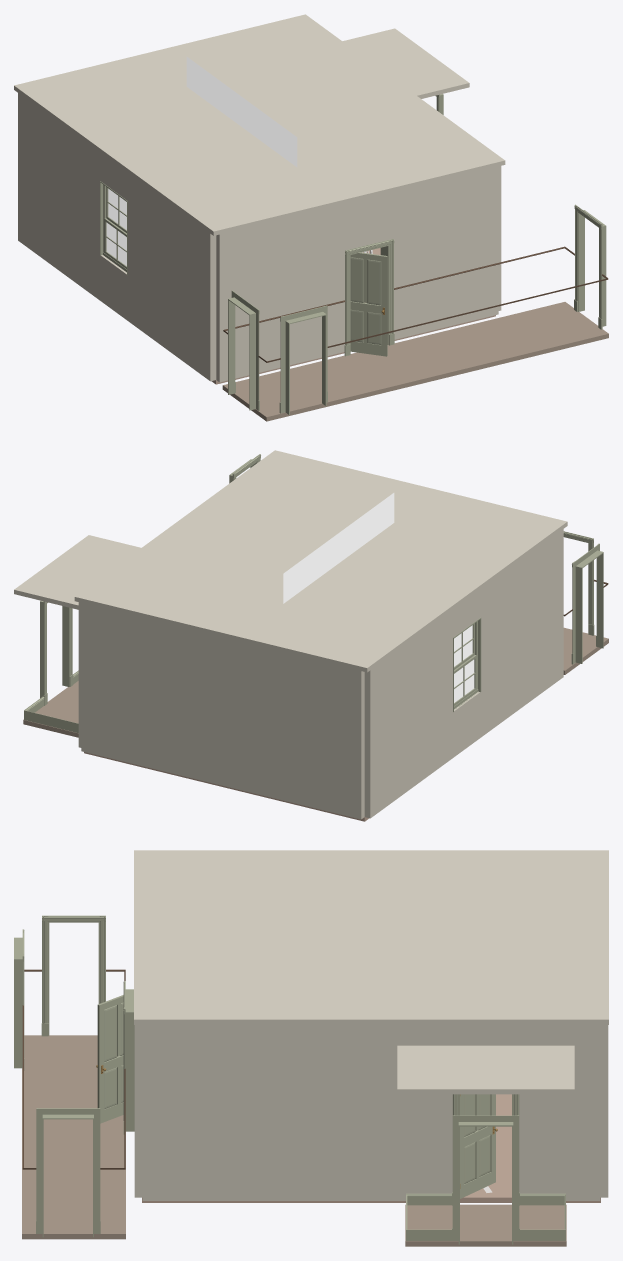
Rendered from kitchen.glb.
3 renders of one model, top to bottom at view 1: azimuth 30°, elevation 25°; view 2: azimuth 150°, elevation 25°; view 3: azimuth 270°, elevation 25°, orthographic. The views are drawn at different scales.
Parts seen in each view (by area): view 1: ROOM__kitchen, LEAF__kitchen_corridor__0; view 2: ROOM__kitchen; view 3: ROOM__kitchen, LEAF__kitchen_corridor__0, LEAF__kitchen_pantry__0.
Part boxes in pixels (x1,y1,x2,y2): ROOM__kitchen: (14,14,608,421); LEAF__kitchen_corridor__0: (350,252,387,356); ROOM__kitchen: (14,450,608,821); ROOM__kitchen: (14,850,608,1246); LEAF__kitchen_corridor__0: (96,995,123,1123); LEAF__kitchen_pantry__0: (460,1094,497,1198).
Size of the model in its own units: 8.8 by 4.42 by 10.4.
